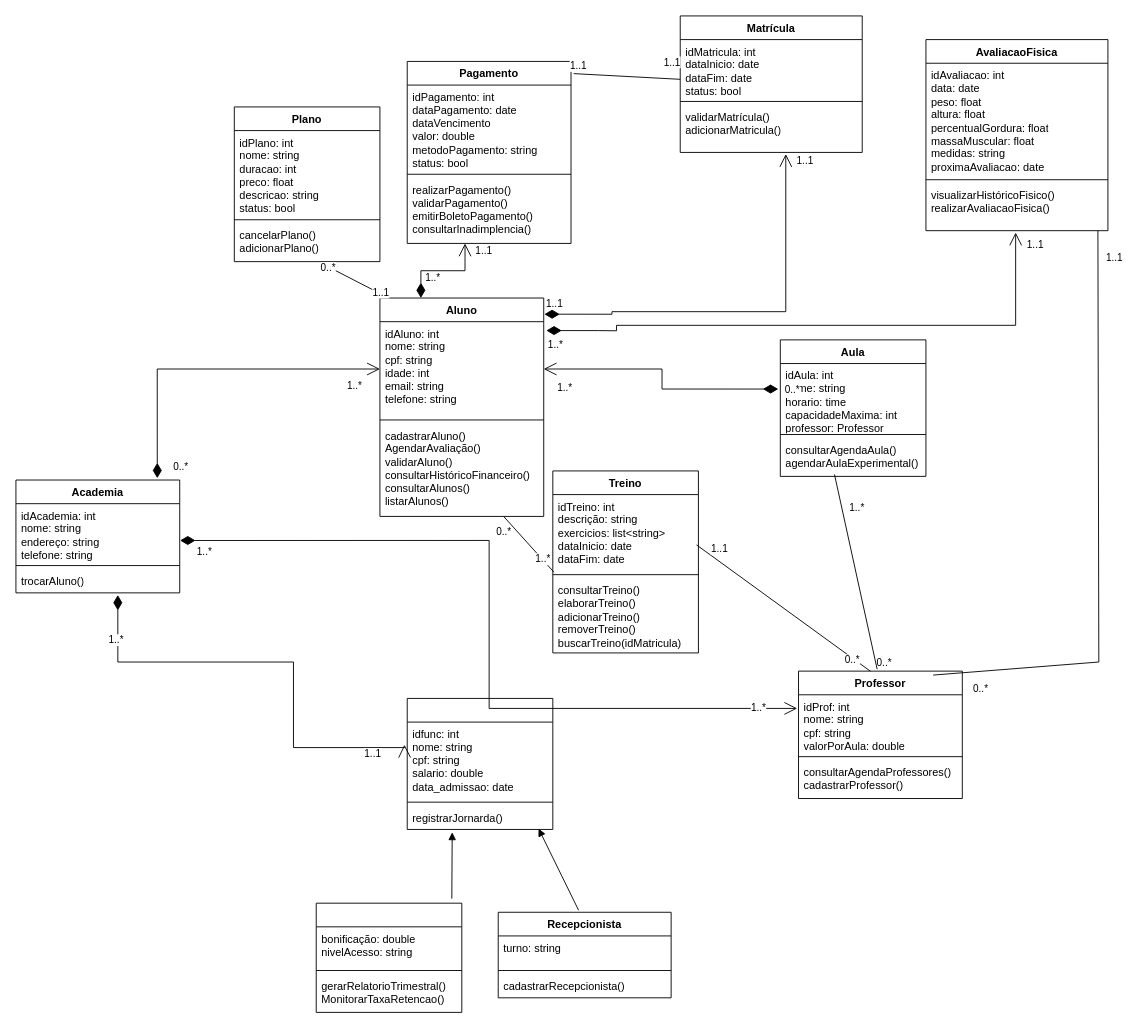
This 1138x1031 diagram has some shape labels left out. Here are the shapes that lost their labels. From the top down, the box of each, then its label:
(406, 698, 553, 829): Funcionario
(315, 902, 462, 1012): Gerente
